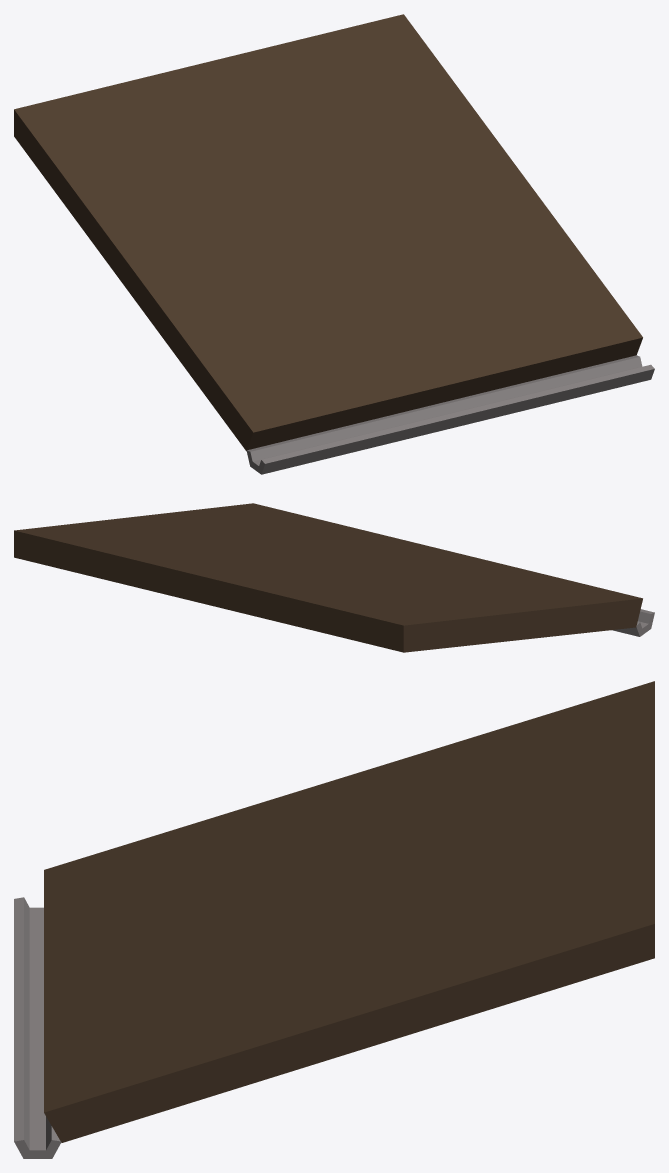
Rendered from buildings-house-roof-porch-3x1m.glb.
The picture shows the model from 3 angles, top to bottom: view 1: azimuth 30°, elevation 25°; view 2: azimuth 150°, elevation 25°; view 3: azimuth 270°, elevation 25°; orthographic projection. The views are drawn at different scales.
Parts seen in each view (by area): view 1: house-roof-porch-3x1m; view 2: house-roof-porch-3x1m; view 3: house-roof-porch-3x1m.
Boxes of the visible parts, x1,y1,x2,y2 form: house-roof-porch-3x1m: [14, 14, 654, 474]; house-roof-porch-3x1m: [14, 503, 654, 652]; house-roof-porch-3x1m: [14, 681, 654, 1158].
Size of the model in its own units: 3 by 1.36 by 3.35.
